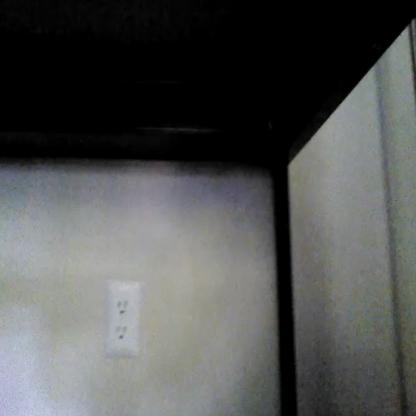OUTLET: (107, 280, 140, 355)
